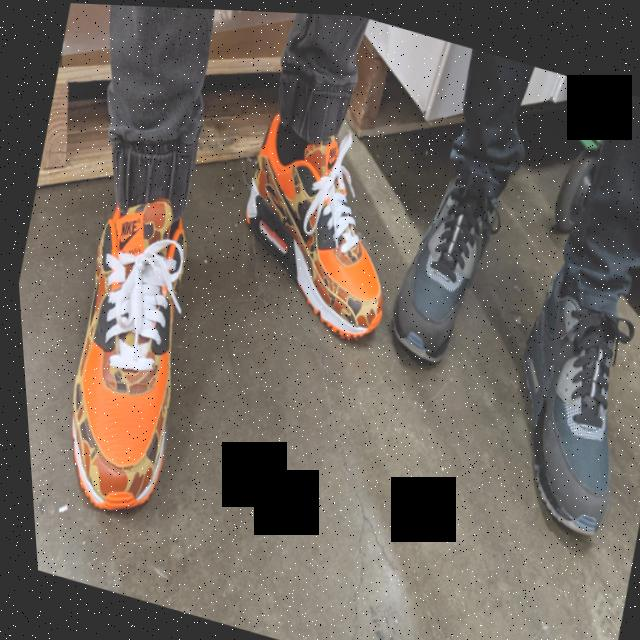shoe: (26, 175, 227, 529), (210, 101, 425, 348), (471, 235, 640, 544), (369, 145, 516, 379)
